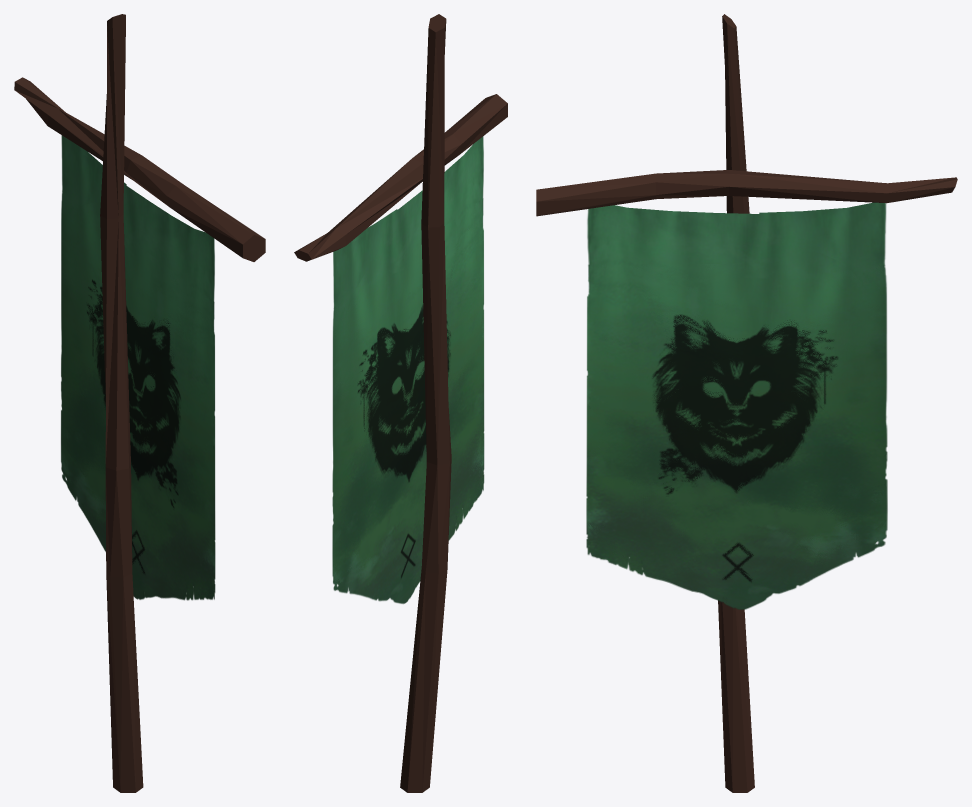
The model's file is flag.glb.
3 views of the same model, side by side, from view 1: azimuth 30°, elevation 25°; view 2: azimuth 150°, elevation 25°; view 3: azimuth 270°, elevation 25° (orthographic). The views are drawn at different scales.
Visible parts, largest first — view 1: Group 12.073; view 2: Group 12.073; view 3: Group 12.073.
Part boxes in pixels (x1,y1,x2,y2): Group 12.073: (14, 14, 265, 792); Group 12.073: (294, 14, 507, 792); Group 12.073: (536, 14, 957, 792).
Bounding box in the file's own units: 0.2472 × 3 × 1.5.
Materials: 2 (1 with a texture image).
